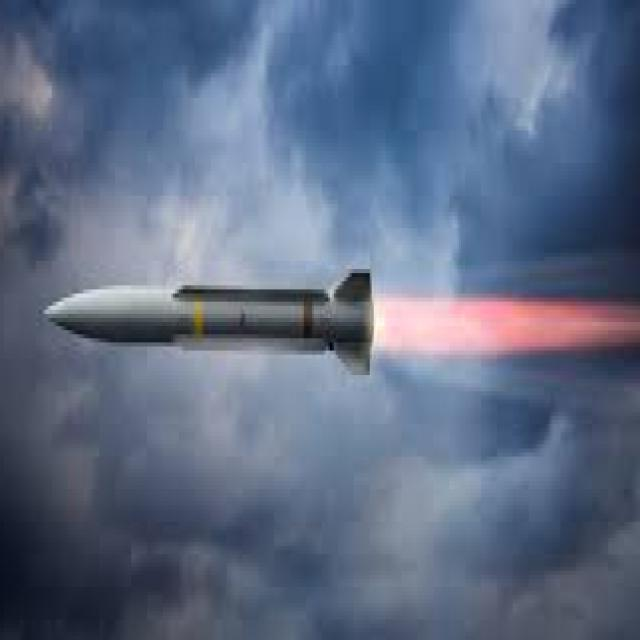missile: (47, 267, 380, 377)
